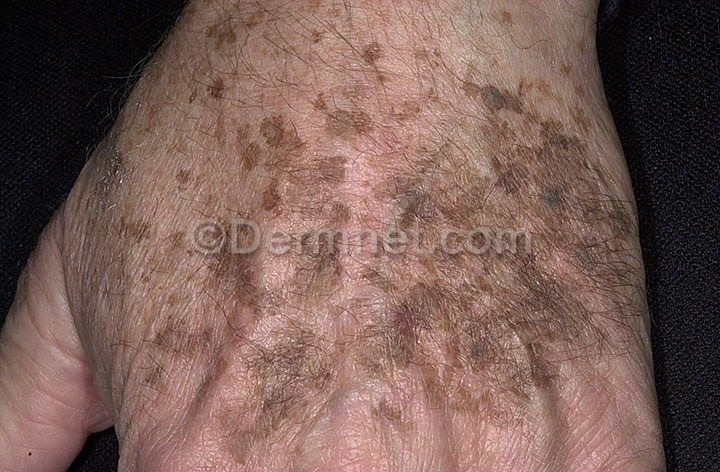Melasma: (294, 1, 479, 8)
